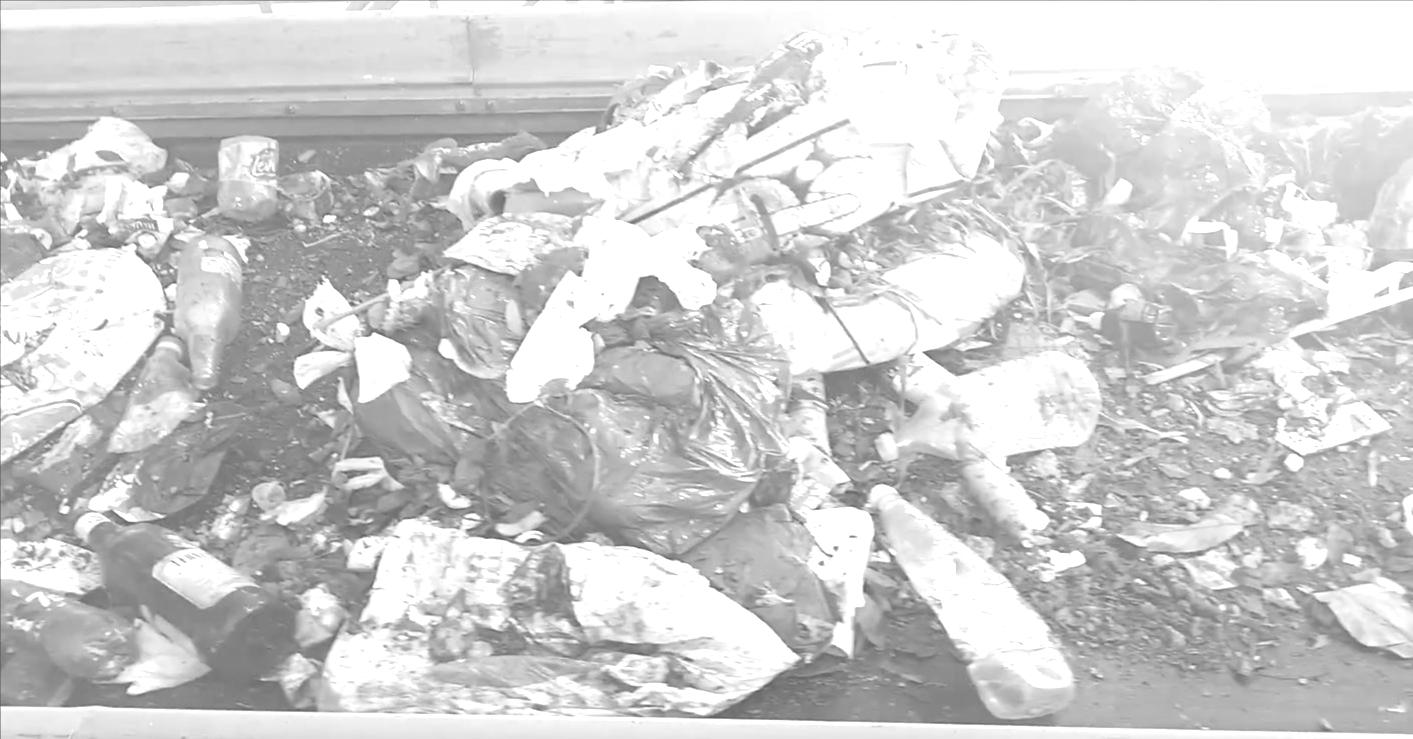bottle: (854, 480, 1080, 723), (59, 492, 312, 686), (866, 352, 1105, 458), (2, 572, 146, 690), (96, 328, 201, 461), (168, 230, 250, 388), (214, 130, 284, 225)
